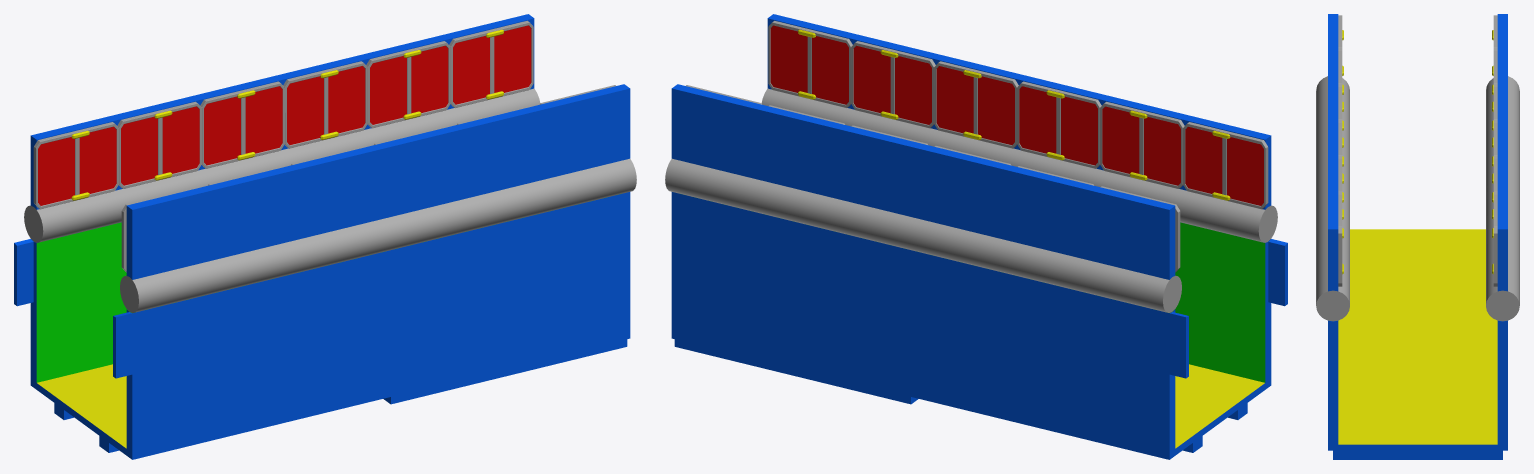
Rendered from Vagon_With_Doors.fbx.
3 views of the same model, side by side, from view 1: azimuth 30°, elevation 25°; view 2: azimuth 150°, elevation 25°; view 3: azimuth 270°, elevation 25° (orthographic). The views are drawn at different scales.
Parts seen in each view (by area): view 1: Vagon_02, Compuerta_Vagon_L, Tren_Wallrun_R, Compuerta_Vagon_R, Tren_Wallrun_L, Tren_WallRun_Bloom; view 2: Vagon_02, Compuerta_Vagon_R, Tren_Wallrun_L, Compuerta_Vagon_L, Tren_Wallrun_R, Tren_WallRun_Bloom; view 3: Vagon_02, Compuerta_Vagon_L, Compuerta_Vagon_R, Tren_Wallrun_L, Tren_Wallrun_R, Tren_WallRun_Bloom (×2).
Boxes of the visible parts, box(x1,y1,x2,y2) form: Vagon_02: box(14, 192, 630, 459); Compuerta_Vagon_L: box(120, 84, 636, 312); Tren_Wallrun_R: box(33, 20, 533, 209); Compuerta_Vagon_R: box(24, 14, 540, 242); Tren_Wallrun_L: box(121, 85, 615, 272); Tren_WallRun_Bloom: box(71, 29, 503, 200); Vagon_02: box(671, 192, 1287, 459); Compuerta_Vagon_R: box(665, 84, 1181, 312); Tren_Wallrun_L: box(768, 20, 1268, 209); Compuerta_Vagon_L: box(761, 14, 1277, 242); Tren_Wallrun_R: box(686, 85, 1180, 272); Tren_WallRun_Bloom: box(798, 29, 1230, 200); Vagon_02: box(1328, 229, 1507, 459); Compuerta_Vagon_L: box(1316, 14, 1349, 321); Compuerta_Vagon_R: box(1486, 14, 1519, 321); Tren_Wallrun_L: box(1338, 15, 1342, 286); Tren_Wallrun_R: box(1493, 15, 1497, 286); Tren_WallRun_Bloom (×2): box(1342, 30, 1493, 274).
Bounding box in the file's own units: 3100 × 1500 × 1200.
